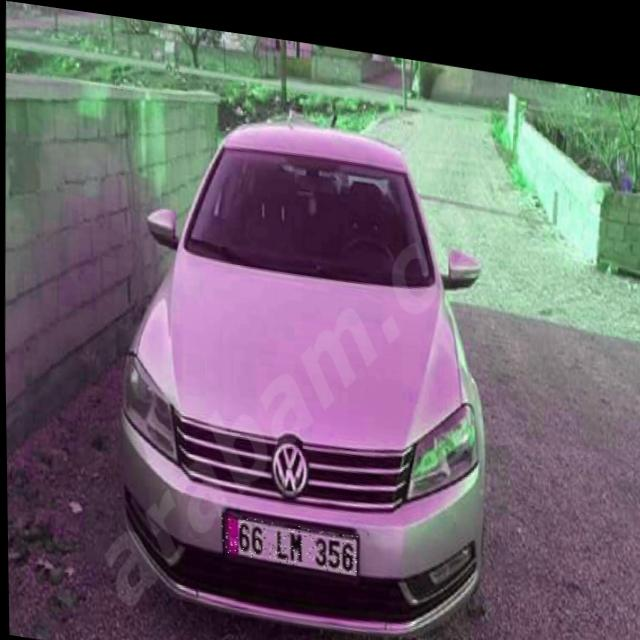license_plate: (219, 507, 358, 566)
